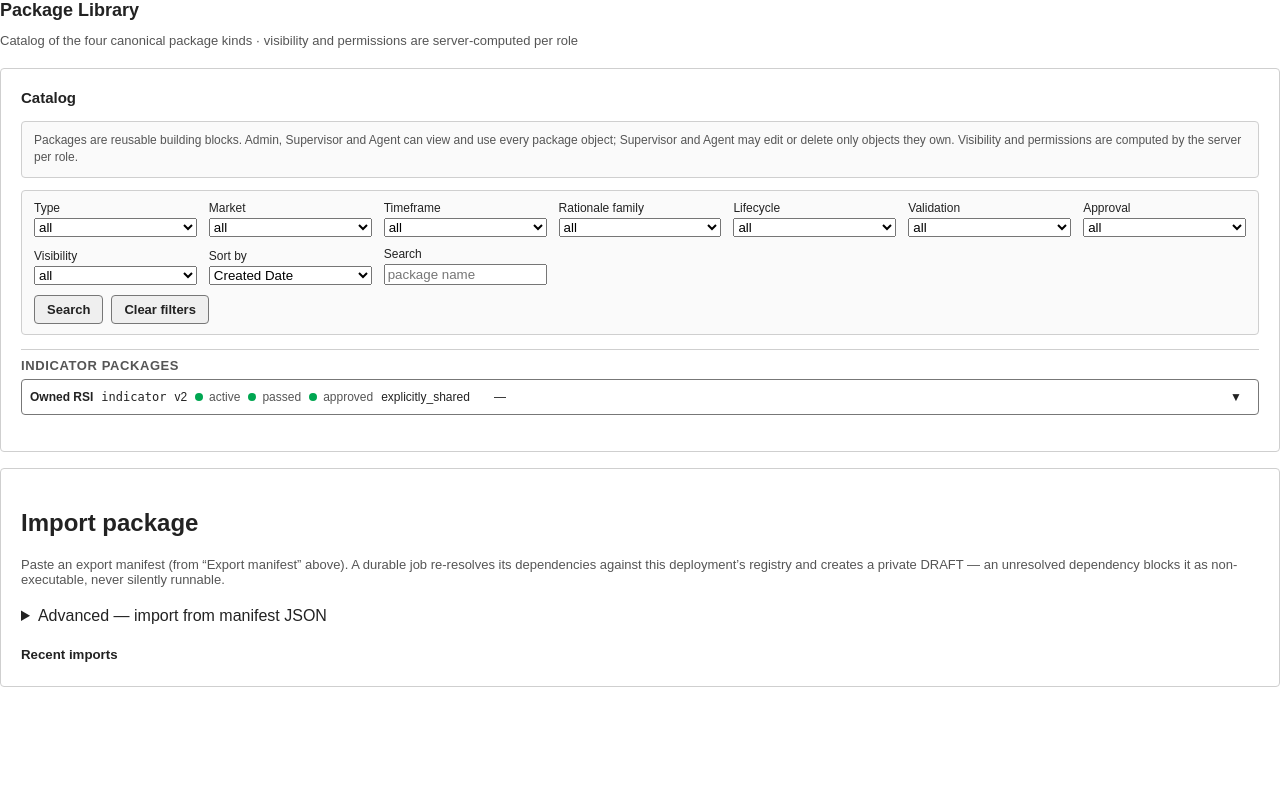
Package Library explicit sharing (GAP-17) › says so when the server withheld a tail of grantees (meta.has_more)
The image size is (1280, 796).
Expected: the text "Owned RSI" is shown, 30,390 -> 93,404
Click the button named "Detail" at (1236, 397), box 1222,383 -> 1250,411
(page scrolled)
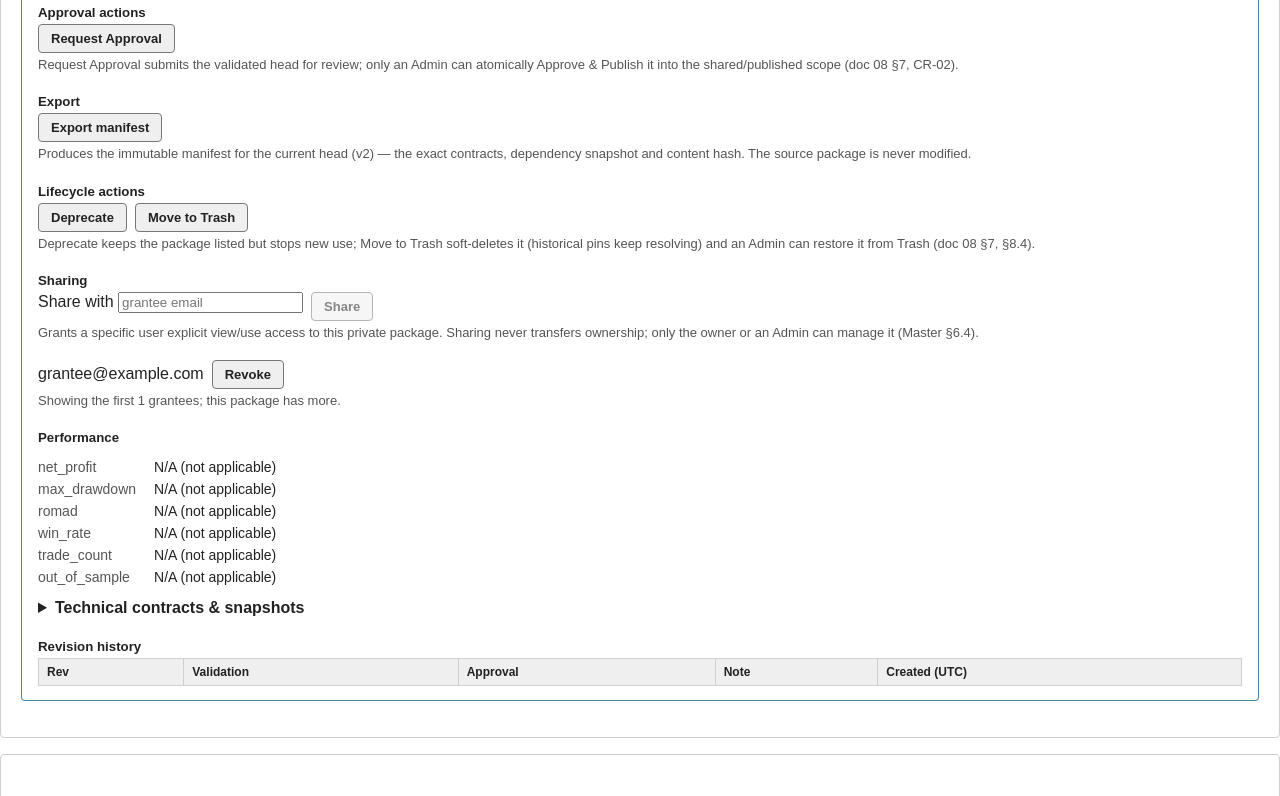
Result: the heading "Sharing" is shown at 38,273 -> 87,288
Result: the text "Showing the first 1 grantees; this package has more." is shown at 38,393 -> 341,408
